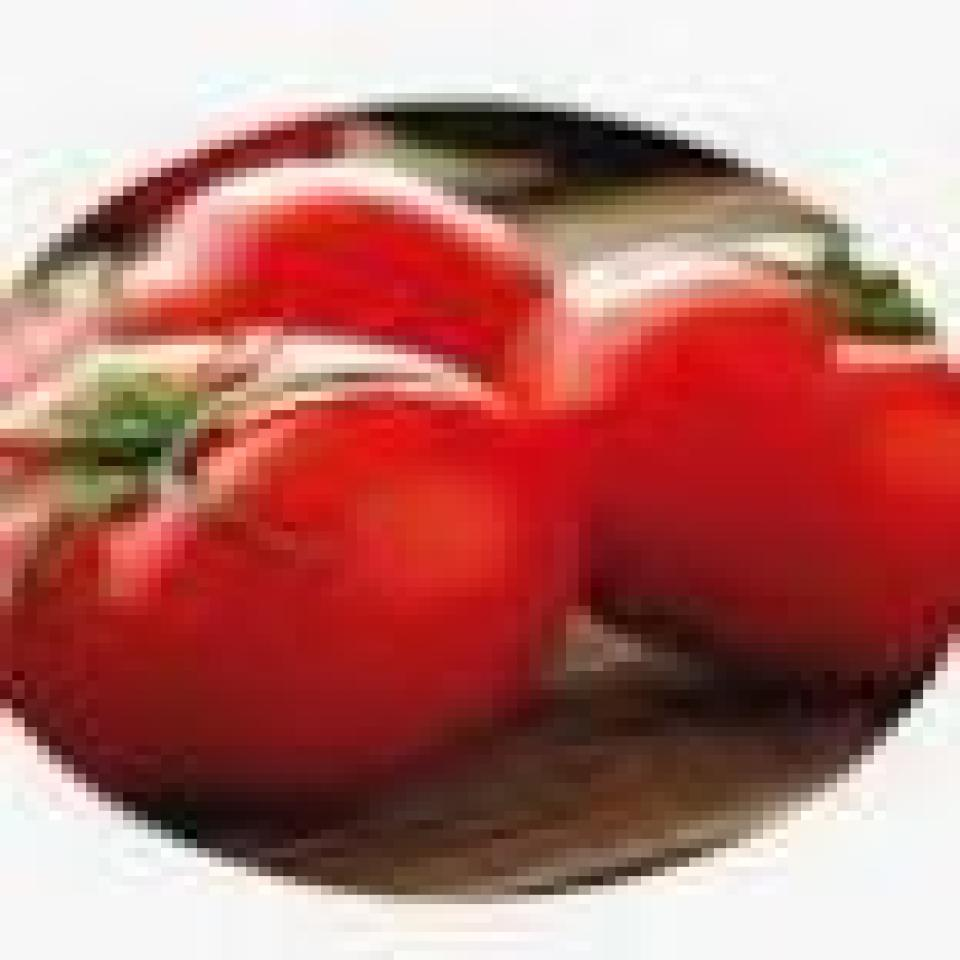Healthy: (0, 260, 624, 770), (575, 186, 959, 692), (116, 108, 621, 447)
